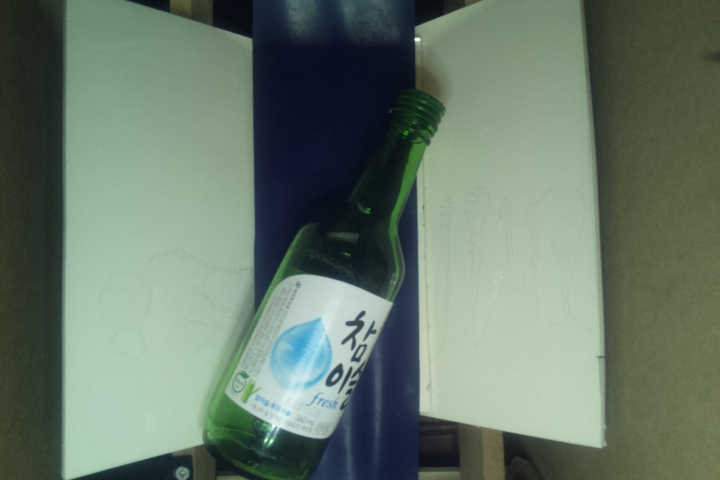soju: (200, 85, 446, 480)
